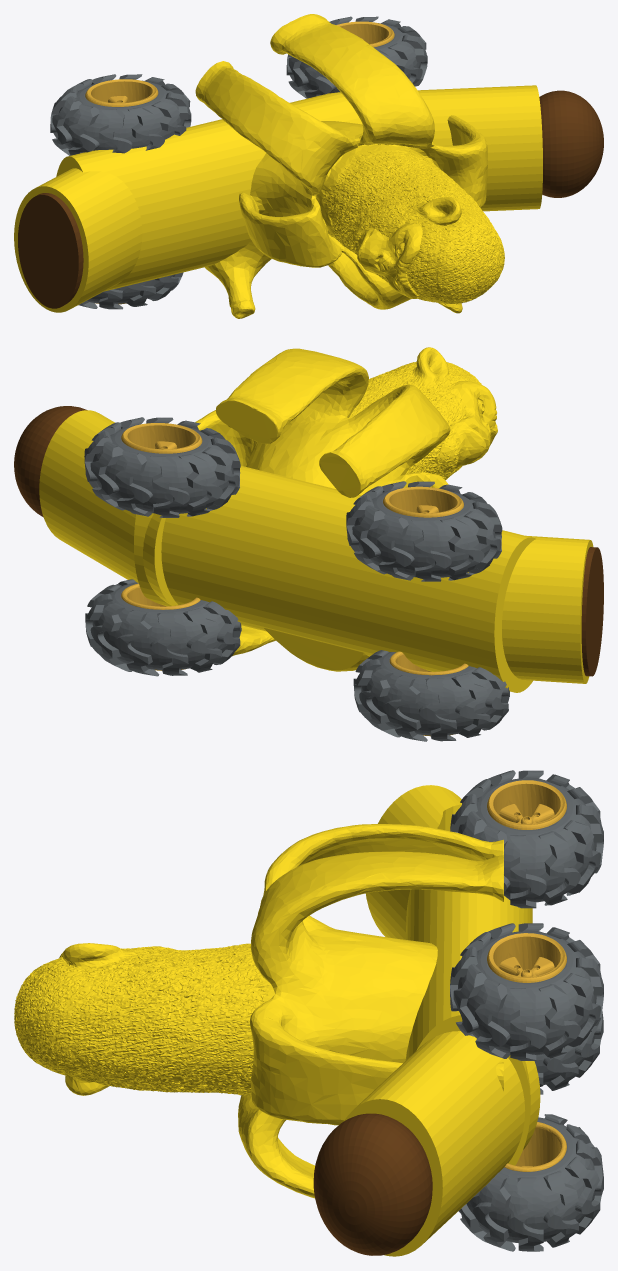
Rendered from tinker.obj.
The picture shows the model from 3 angles, top to bottom: view 1: azimuth 30°, elevation 25°; view 2: azimuth 150°, elevation 25°; view 3: azimuth 270°, elevation 25°; orthographic projection. The views are drawn at different scales.
Parts seen in each view (by area): view 1: obj_9, obj_0, obj_1, obj_8, obj_3, obj_4, obj_2, obj_7, obj_5; view 2: obj_0, obj_9, obj_7, obj_8, obj_3, obj_6, obj_1, obj_5, obj_2, obj_4; view 3: obj_9, obj_1, obj_7, obj_8, obj_2, obj_6, obj_0, obj_3, obj_5.
Boxes of the visible parts, <box> form: obj_9: <box>195,14,504,318</box>; obj_0: <box>56,92,362,291</box>; obj_1: <box>418,85,542,211</box>; obj_8: <box>50,74,191,155</box>; obj_3: <box>14,168,142,312</box>; obj_4: <box>18,193,83,308</box>; obj_2: <box>539,90,603,197</box>; obj_7: <box>286,16,427,98</box>; obj_5: <box>78,272,183,309</box>; obj_0: <box>134,466,535,692</box>; obj_9: <box>195,347,497,671</box>; obj_7: <box>84,417,240,517</box>; obj_8: <box>346,481,502,581</box>; obj_3: <box>502,535,593,683</box>; obj_6: <box>85,579,241,676</box>; obj_1: <box>39,410,178,605</box>; obj_5: <box>353,650,509,741</box>; obj_2: <box>14,406,87,517</box>; obj_4: <box>581,547,603,676</box>; obj_9: <box>14,824,503,1198</box>; obj_1: <box>344,1031,540,1256</box>; obj_7: <box>450,923,603,1060</box>; obj_8: <box>450,770,603,908</box>; obj_2: <box>313,1113,432,1255</box>; obj_6: <box>458,1114,603,1251</box>; obj_0: <box>405,804,532,1165</box>; obj_3: <box>365,785,461,939</box>; obj_5: <box>534,1011,603,1094</box>.
Size of the model in its own units: 92 by 39.57 by 65.
